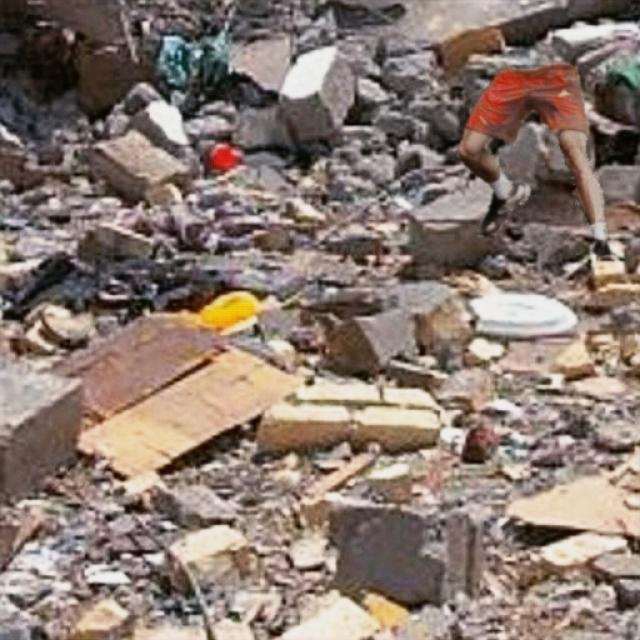Person in Rubble: (456, 61, 624, 260)
